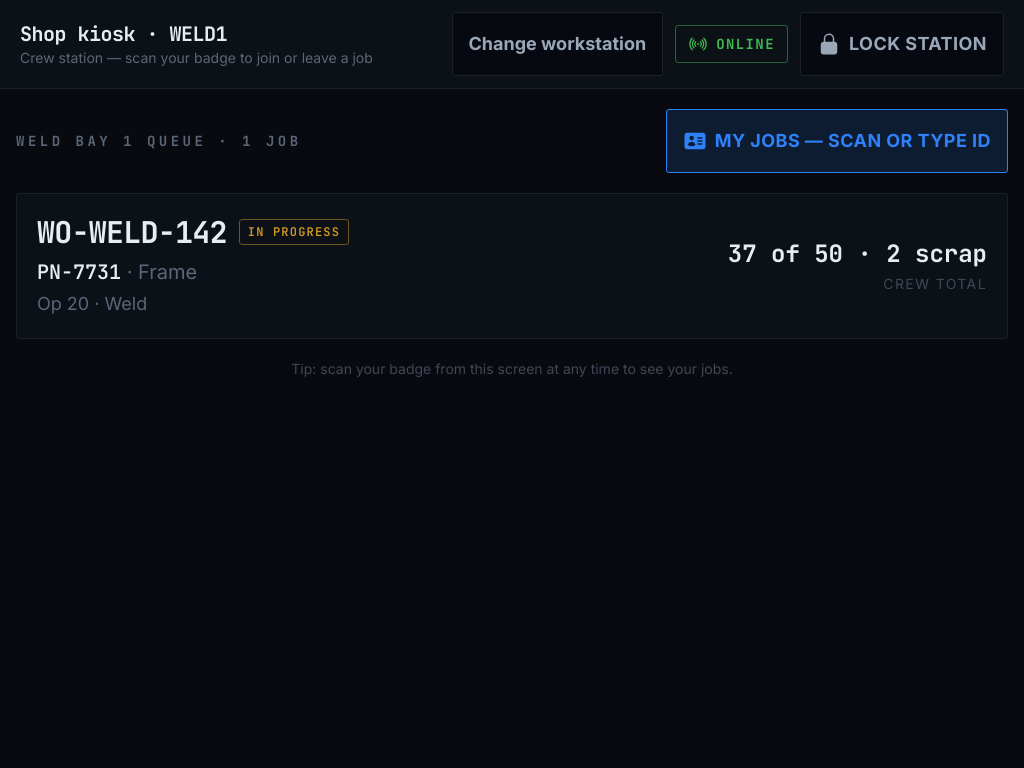
Test: CrewStationKiosk workstation selection › reconciles a lost assignment response before cancelling back to the confirmed workstation
Expected: the button "WO-WELD-142" is shown, top-left (16, 193), bottom-right (1008, 339)
Click the button "Change workstation" at (557,44), box top-left (452, 12), bottom-right (663, 76)
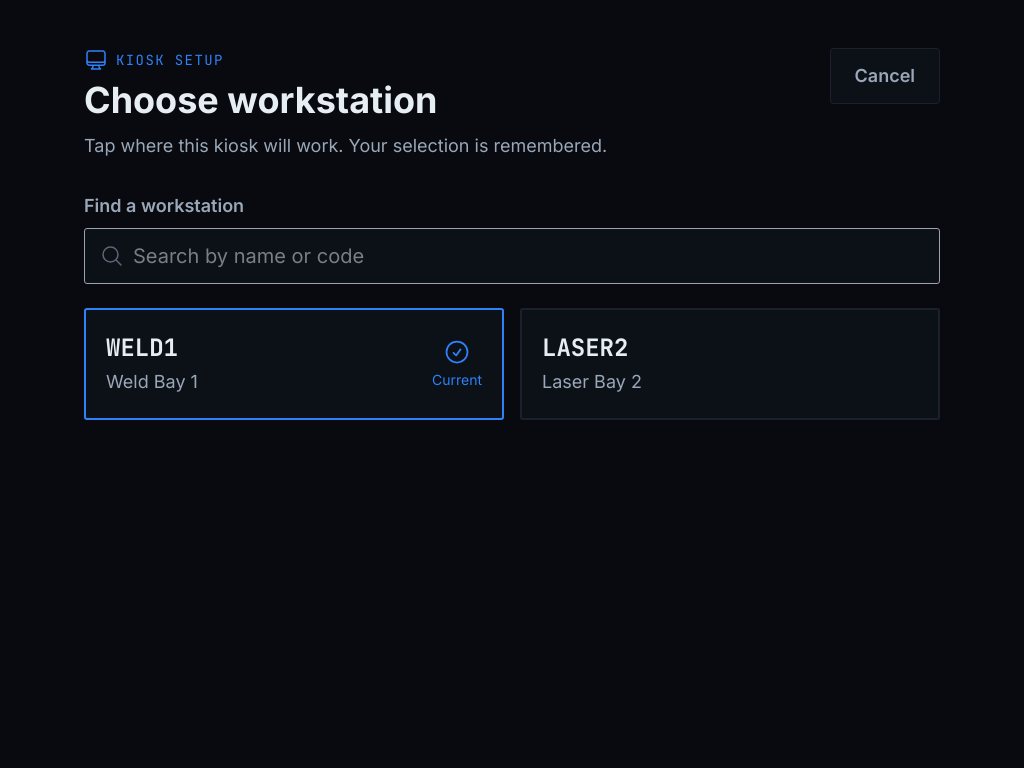
Expected: the heading "Choose workstation" is shown, top-left (84, 78), bottom-right (438, 122)
Click the button "LASER2 Laser Bay 2" at (585,348), box top-left (520, 308), bottom-right (940, 420)
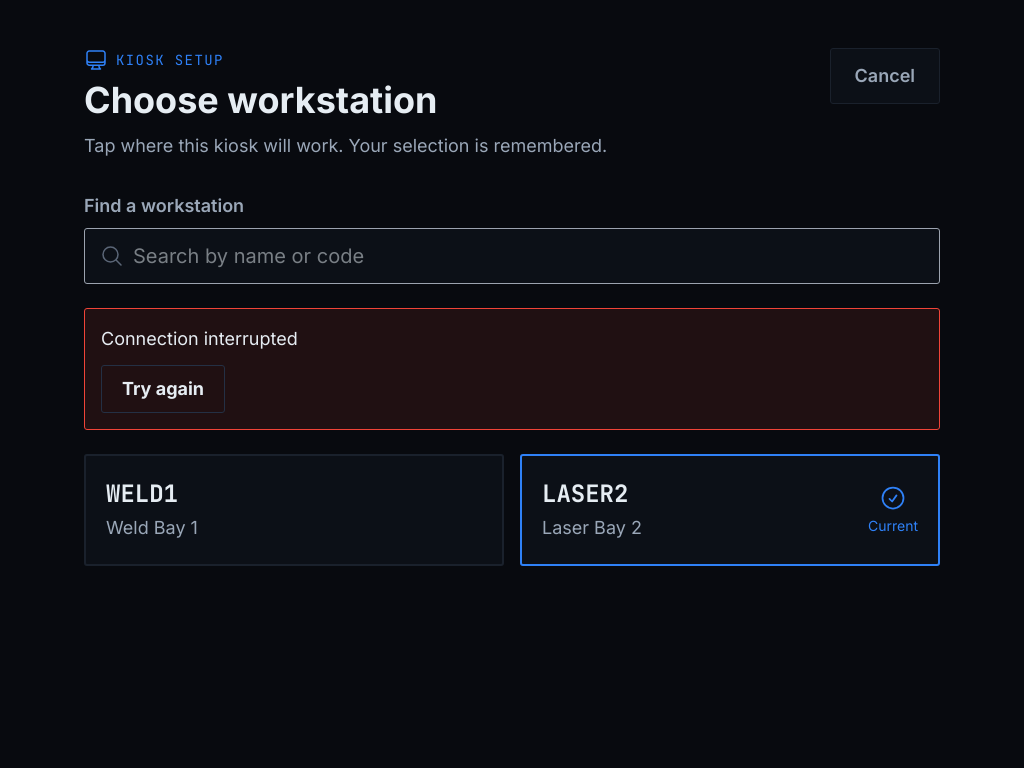
Expected: the message shows "Connection interrupted", top-left (101, 328), bottom-right (298, 349)
Click the button "Cancel" at (885,76), box top-left (830, 48), bottom-right (940, 104)
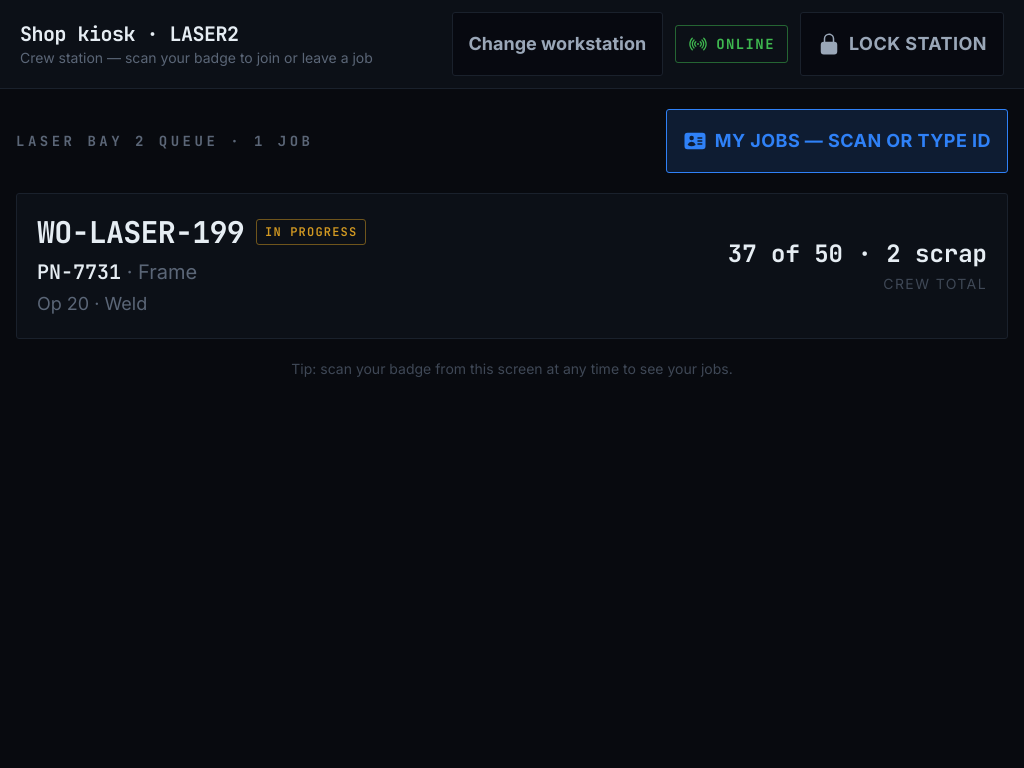
Expected: the button "WO-WELD-142" is not shown
Expected: the button "WO-LASER-199" is shown, top-left (16, 193), bottom-right (1008, 339)
Expected: the text "Shop kiosk · LASER2" is shown, top-left (20, 21), bottom-right (238, 47)
